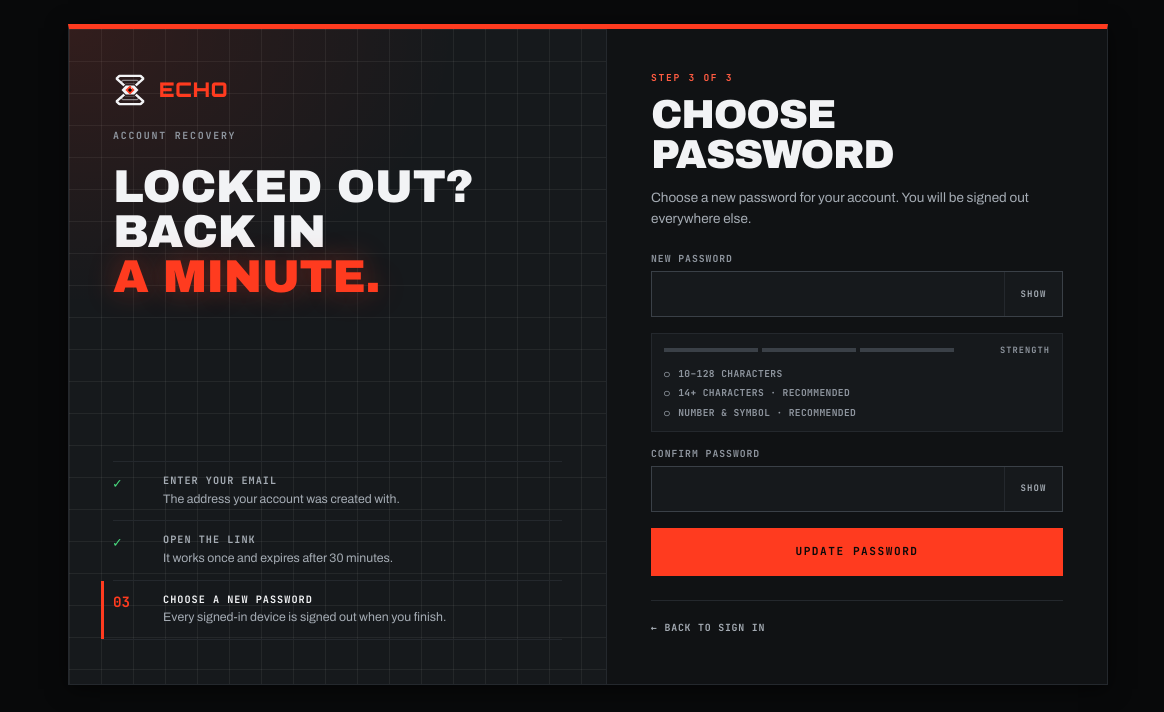
Test case: PasswordResetPage — choose a new password › shows other failures (rate limit) as an alert without losing the typed passwords
The image size is (1164, 712).
Type "a-new-password-1" into the password field labelled "NEW PASSWORD" at (828,294), box top-left (652, 272), bottom-right (1004, 316)
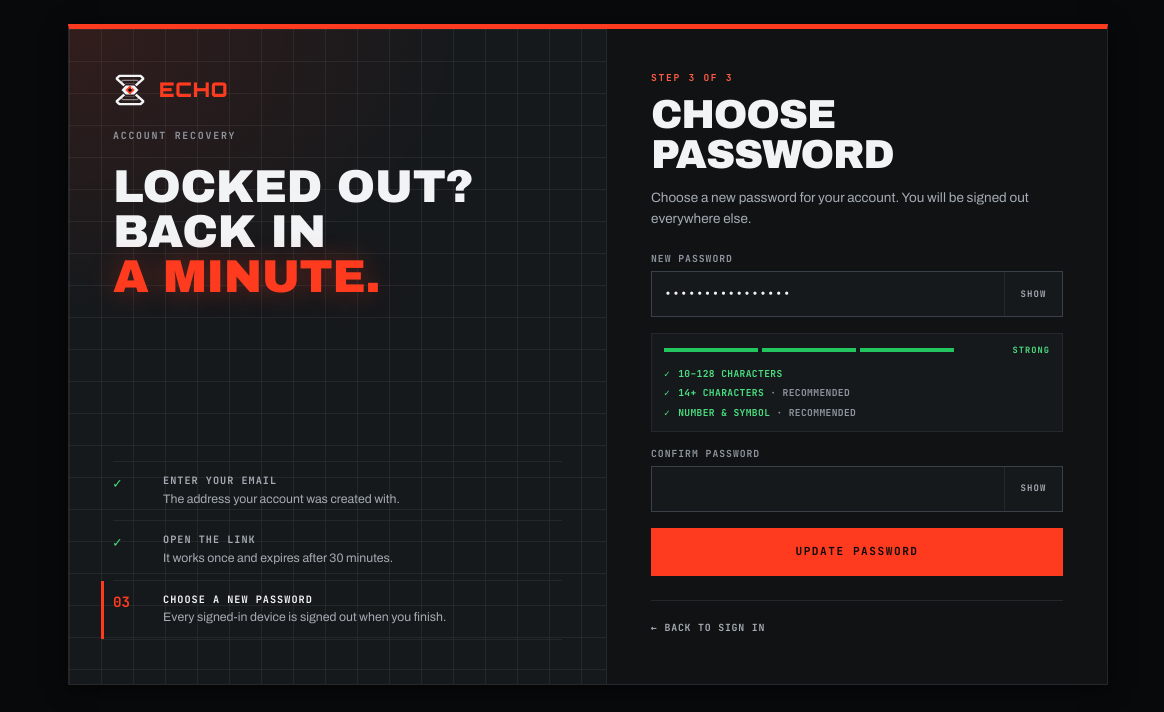
Type "a-new-password-1" into the password field labelled "CONFIRM PASSWORD" at (828,489), box top-left (652, 467), bottom-right (1004, 511)
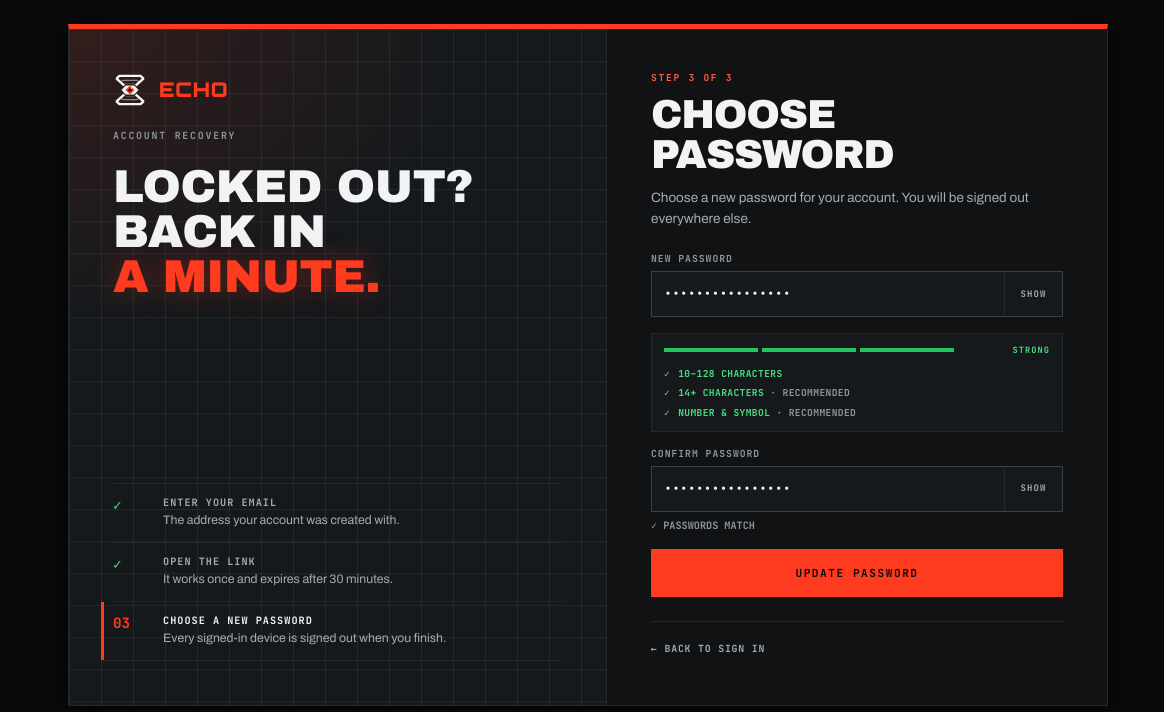
Click the button "UPDATE PASSWORD" at (857,573), box top-left (651, 549), bottom-right (1063, 597)
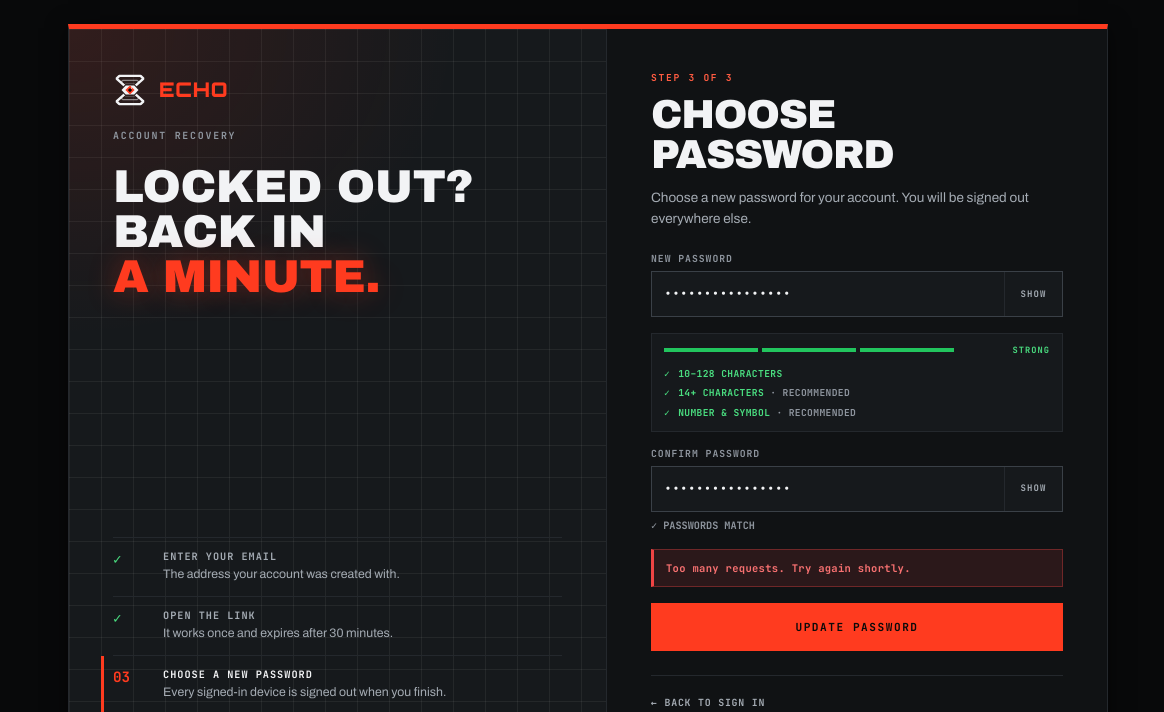
Expected: the button "UPDATE PASSWORD" is enabled, top-left (651, 603), bottom-right (1063, 651)
Expected: the message shows "Too many requests", top-left (666, 561), bottom-right (911, 575)
